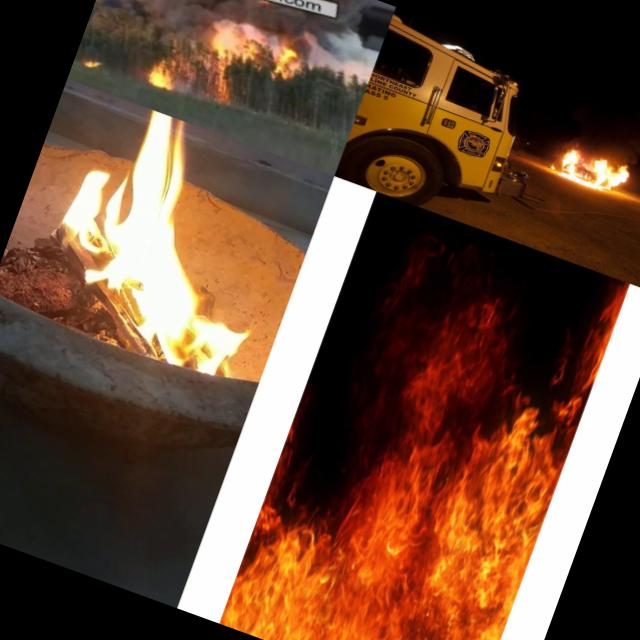fire: (222, 256, 606, 640), (29, 94, 300, 383), (554, 138, 636, 200), (200, 53, 243, 104), (266, 42, 298, 82), (144, 55, 178, 92), (81, 49, 108, 75)
smoke: (97, 0, 281, 65), (294, 16, 382, 90)
